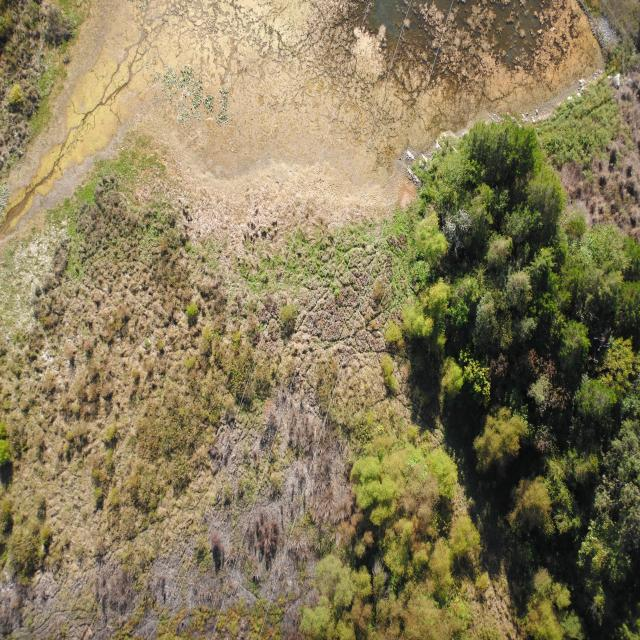Area of Interest: (326, 125, 628, 623)
